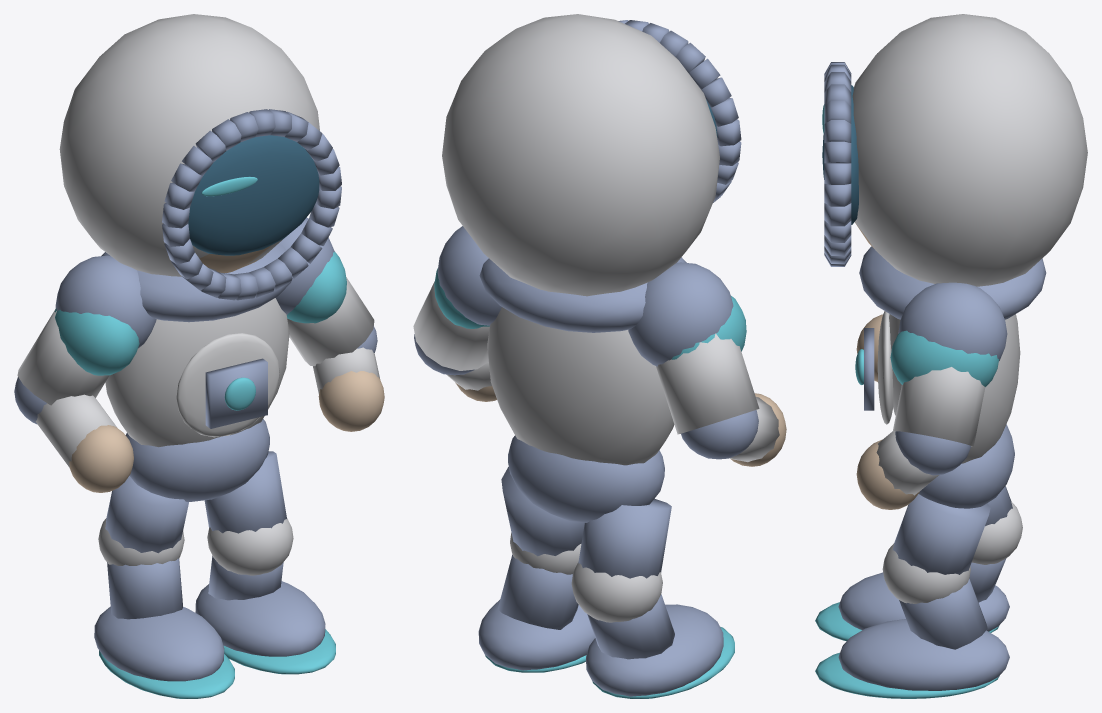
Rendered from 07_astro.glb.
The picture shows the model from 3 angles, left to right: view 1: azimuth 30°, elevation 25°; view 2: azimuth 150°, elevation 25°; view 3: azimuth 270°, elevation 25°; orthographic projection. The views are drawn at different scales.
Visible parts, largest first — view 1: 07_astro_space-helmet_028, 07_astro_reflective-visor_026, 07_astro_outfit-torso_001, 07_astro_oversized-boot_018, 07_astro_shorts_002, 07_astro_oversized-boot_023, 07_astro_pauldron_009, 07_astro_chest-piece_004, 07_astro_neck-seal_057, 07_astro_upper-leg_015, 07_astro_oxygen-connector_058, 07_astro_upper-arm_005 (+19 smaller); view 2: 07_astro_space-helmet_028, 07_astro_outfit-torso_001, 07_astro_shorts_002, 07_astro_pauldron_009, 07_astro_oversized-boot_018, 07_astro_upper-arm_005, 07_astro_neck-seal_057, 07_astro_upper-leg_015, 07_astro_oversized-boot_023, 07_astro_lower-leg_022, 07_astro_knee_016, 07_astro_pauldron_014 (+11 smaller); view 3: 07_astro_space-helmet_028, 07_astro_oversized-boot_023, 07_astro_pauldron_014, 07_astro_upper-leg_020, 07_astro_upper-arm_010, 07_astro_neck-seal_057, 07_astro_shorts_002, 07_astro_outfit-torso_001, 07_astro_lower-leg_022, 07_astro_oversized-boot_018, 07_astro_oxygen-connector_059, 07_astro_knee_021 (+20 smaller).
Boxes of the visible parts, x1,y1,x2,y2 form: 07_astro_space-helmet_028: (59, 14, 319, 276); 07_astro_reflective-visor_026: (188, 135, 319, 255); 07_astro_outfit-torso_001: (105, 298, 289, 447); 07_astro_oversized-boot_018: (94, 606, 224, 681); 07_astro_shorts_002: (125, 419, 269, 501); 07_astro_oversized-boot_023: (195, 581, 325, 656); 07_astro_pauldron_009: (55, 255, 156, 348); 07_astro_chest-piece_004: (176, 333, 279, 437); 07_astro_neck-seal_057: (101, 243, 292, 322); 07_astro_upper-leg_015: (105, 476, 188, 553); 07_astro_oxygen-connector_058: (54, 308, 139, 375); 07_astro_upper-arm_005: (17, 309, 109, 405); 07_astro_space-helmet_028: (442, 14, 719, 296); 07_astro_outfit-torso_001: (487, 307, 674, 465); 07_astro_shorts_002: (508, 435, 664, 522); 07_astro_pauldron_009: (628, 262, 733, 366); 07_astro_oversized-boot_018: (586, 604, 723, 696); 07_astro_upper-arm_005: (656, 333, 759, 434); 07_astro_neck-seal_057: (479, 257, 686, 332); 07_astro_upper-leg_015: (578, 498, 671, 578); 07_astro_oversized-boot_023: (478, 599, 595, 670); 07_astro_lower-leg_022: (498, 554, 578, 629); 07_astro_knee_016: (571, 562, 662, 622); 07_astro_pauldron_014: (437, 226, 501, 325); 07_astro_space-helmet_028: (852, 14, 1087, 286); 07_astro_oversized-boot_023: (838, 619, 1009, 690); 07_astro_pauldron_014: (898, 282, 1007, 360); 07_astro_upper-leg_020: (892, 494, 990, 574); 07_astro_upper-arm_010: (893, 367, 985, 446); 07_astro_neck-seal_057: (859, 246, 1046, 319); 07_astro_shorts_002: (918, 424, 1014, 508); 07_astro_outfit-torso_001: (889, 314, 1020, 463); 07_astro_lower-leg_022: (899, 579, 987, 649); 07_astro_oversized-boot_018: (838, 572, 1009, 631); 07_astro_oxygen-connector_059: (890, 330, 999, 386); 07_astro_knee_021: (882, 543, 970, 603).
Bounding box in the file's own units: 1.52 × 2.71 × 1.05.
